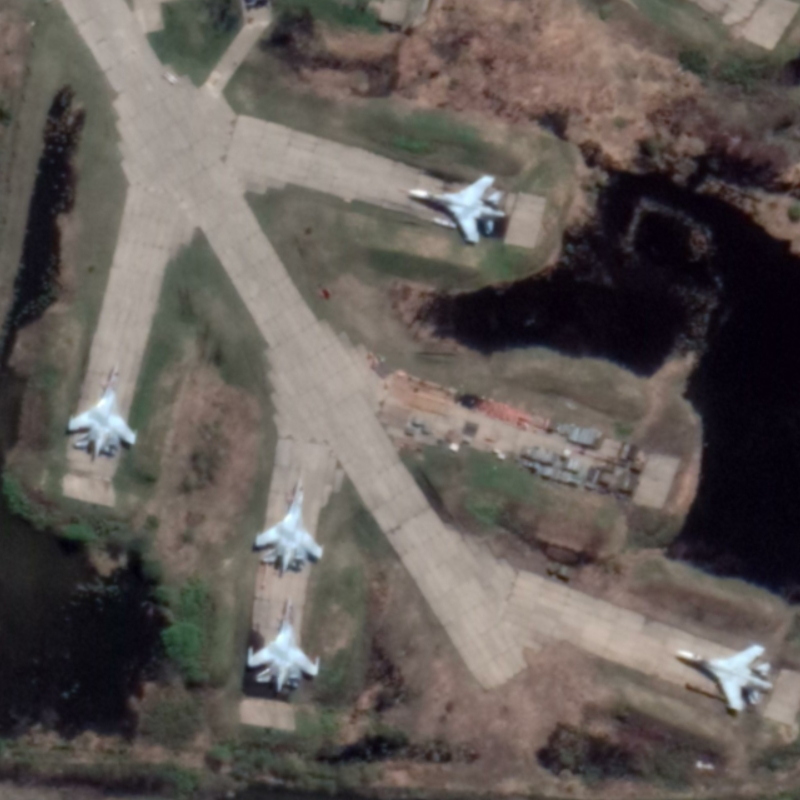A1: (397, 171, 509, 247), (243, 594, 322, 697), (669, 640, 776, 716), (250, 473, 325, 580), (63, 360, 140, 463)
